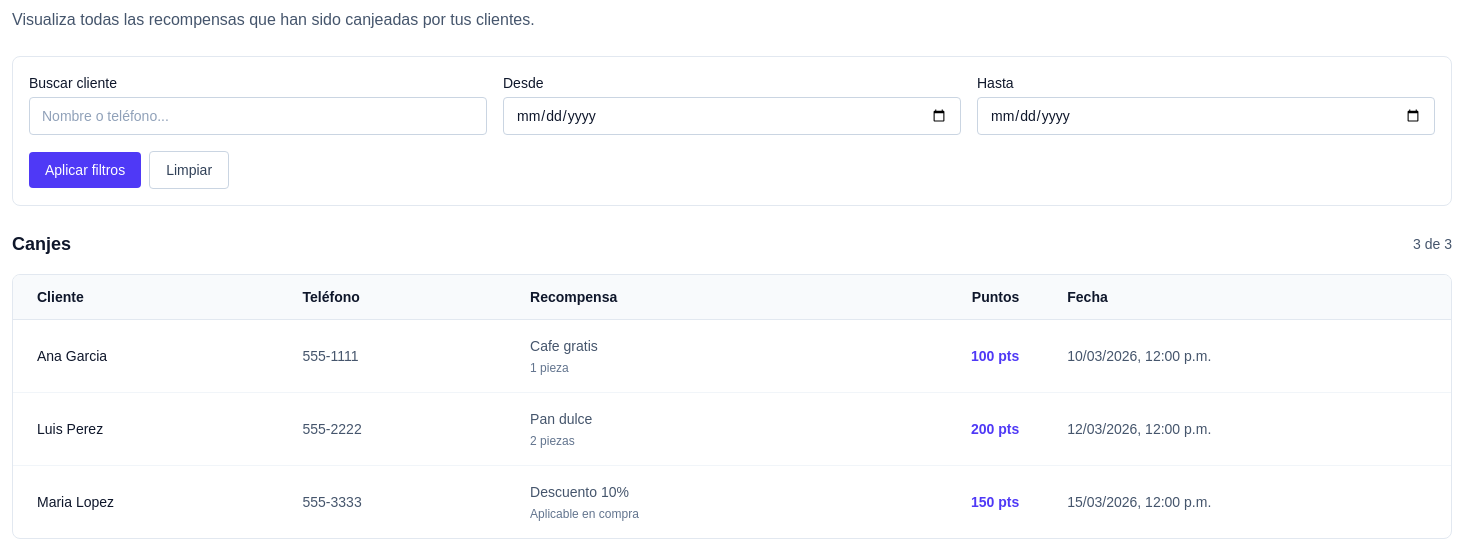
RedemptionsPageClient (/dashboard/rewards/redemptions) › filters by customer search using name and phone
Type "555-2222" into the field with placeholder "Nombre o teléfono..." at (258, 116), box [29, 97, 487, 135]
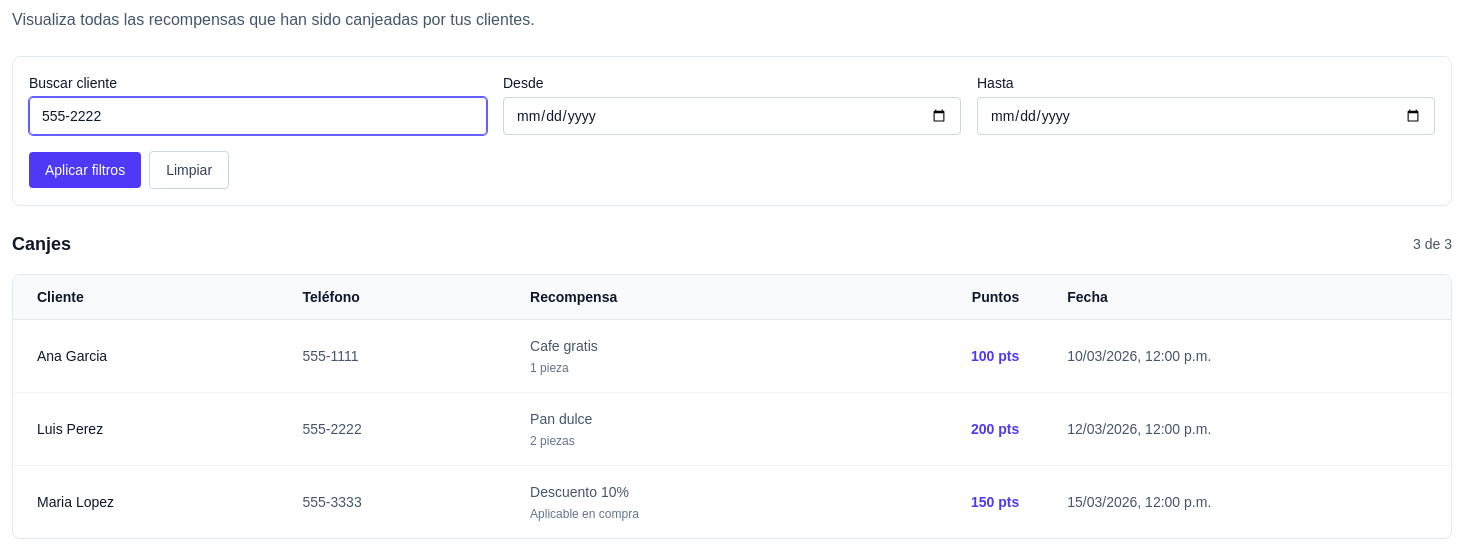
Click the button "Aplicar filtros" at (85, 170), box [29, 152, 141, 188]
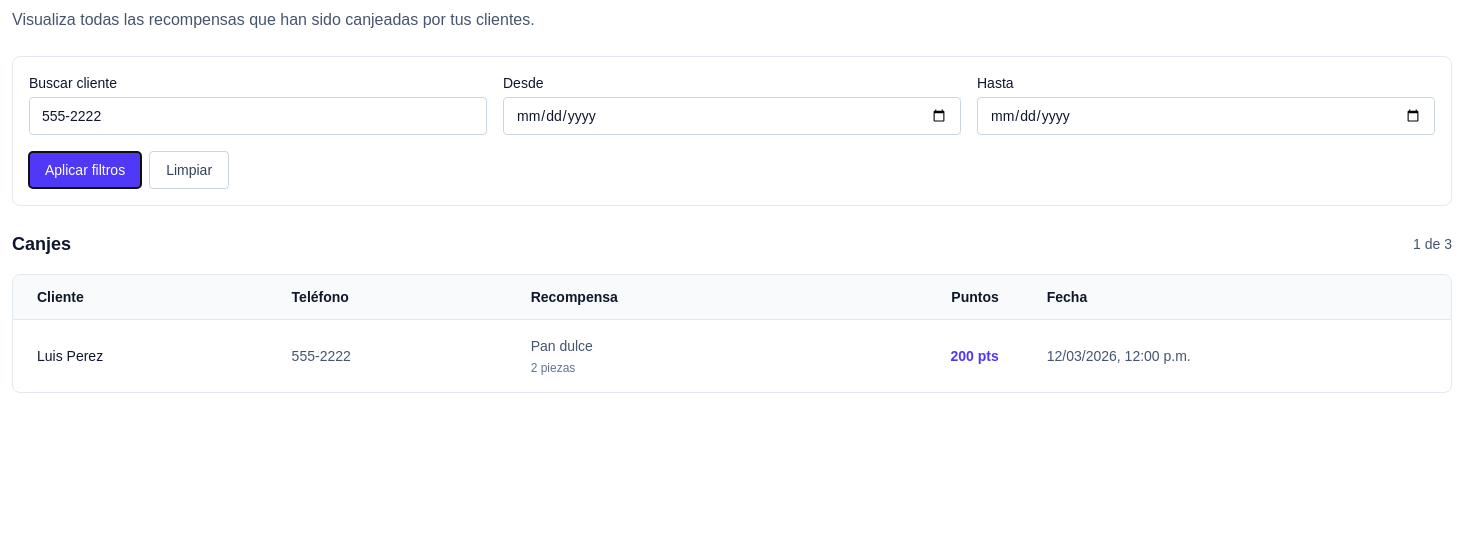
Check: the text "Ana Garcia" is gone
Check: the text "Maria Lopez" is gone
Check: the text "1 de 3" is shown, box [1413, 234, 1452, 254]
